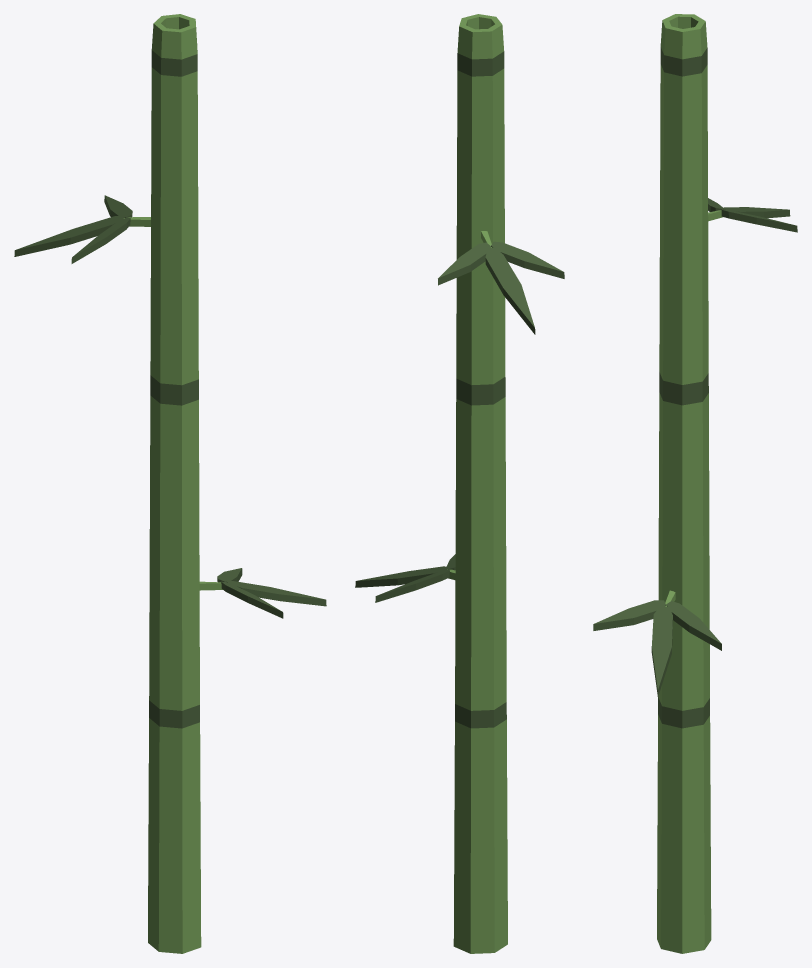
Rendered from bamboo_2.gltf.
3 renders of one model, left to right at view 1: azimuth 30°, elevation 25°; view 2: azimuth 150°, elevation 25°; view 3: azimuth 270°, elevation 25°, orthographic.
Parts seen in each view (by area): view 1: bamboo_2; view 2: bamboo_2; view 3: bamboo_2.
Boxes of the visible parts, <box> form: bamboo_2: <box>14,14,326,953</box>; bamboo_2: <box>355,14,564,953</box>; bamboo_2: <box>593,14,797,953</box>.
Size of the model in its own units: 0.2053 by 0.733 by 0.1475.
1 material, 1 textured.
